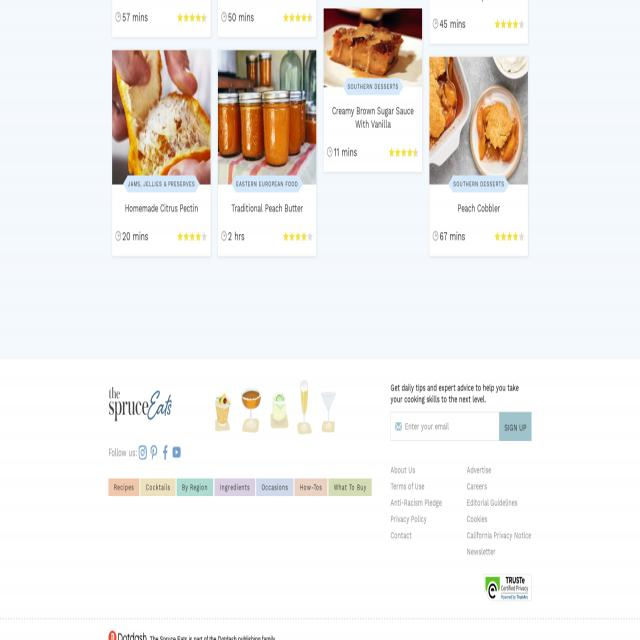button: (112, 50, 210, 184), (218, 50, 316, 184), (430, 56, 528, 185), (212, 378, 354, 434), (324, 8, 422, 87), (109, 382, 172, 421), (484, 574, 532, 602), (499, 412, 532, 441), (139, 445, 147, 460), (150, 445, 158, 460), (161, 445, 169, 460), (172, 445, 180, 460), (177, 12, 183, 23), (183, 12, 189, 23), (189, 12, 195, 23), (195, 12, 201, 23), (201, 12, 207, 23), (177, 231, 183, 242), (183, 231, 189, 242), (189, 231, 195, 242), (195, 231, 201, 242), (201, 231, 207, 242), (283, 12, 289, 23), (289, 12, 295, 23), (295, 12, 301, 23), (301, 12, 307, 23), (307, 12, 313, 23), (283, 231, 289, 242), (289, 231, 295, 242), (295, 231, 301, 242), (301, 231, 307, 242), (307, 231, 313, 242), (388, 147, 394, 158), (394, 147, 400, 158), (407, 147, 413, 158), (413, 147, 419, 158), (494, 19, 500, 30), (500, 19, 506, 30), (512, 19, 518, 30), (518, 19, 524, 30), (494, 231, 500, 242), (500, 231, 506, 242), (512, 231, 518, 242), (518, 231, 524, 242), (115, 12, 121, 22), (115, 231, 121, 241), (221, 12, 227, 22), (221, 231, 227, 241), (327, 146, 333, 156), (401, 147, 406, 158), (507, 19, 512, 30), (507, 231, 512, 242), (433, 18, 438, 28), (433, 231, 438, 241)
field: (390, 412, 500, 441)
